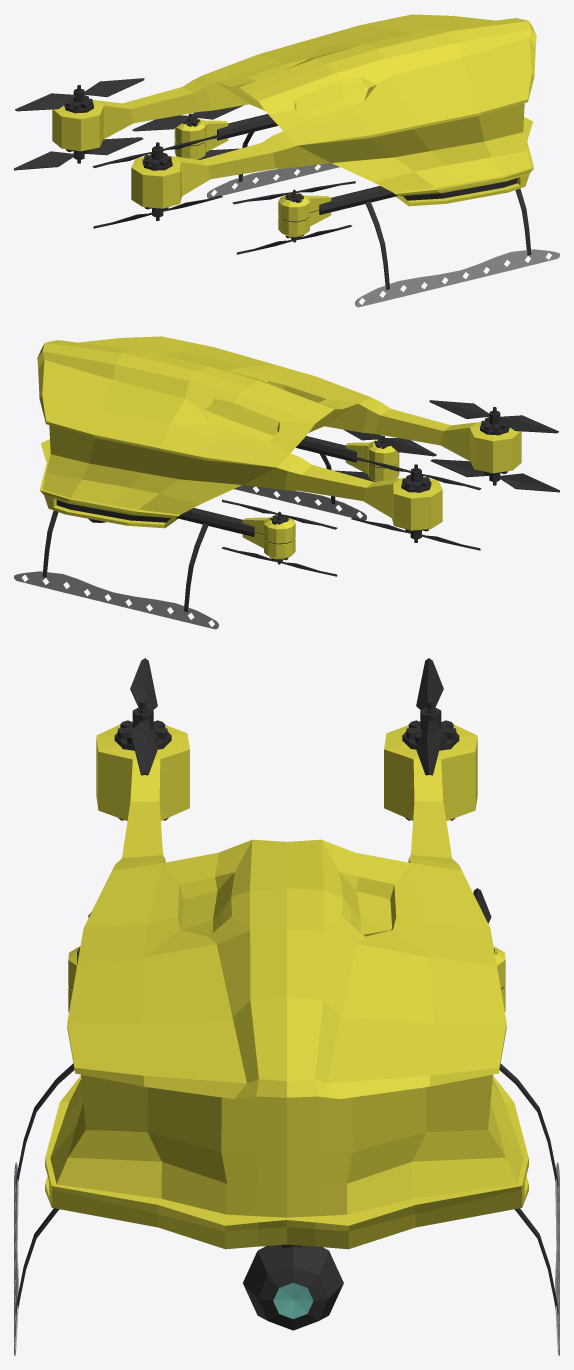
The model's file is dron_4_body_root.fbx.
3 views of the same model, one above another, from view 1: azimuth 30°, elevation 25°; view 2: azimuth 150°, elevation 25°; view 3: azimuth 270°, elevation 25° (orthographic). The views are drawn at different scales.
Parts seen in each view (by area): view 1: dron_4_body, BL_propeller, BR_propeller, FL_propeller, FR_propeller; view 2: dron_4_body, BR_propeller, BL_propeller, FR_propeller, FL_propeller; view 3: dron_4_body, Camera, BL_propeller, BR_propeller.
Boxes of the visible parts, left/top/right/bottom form: dron_4_body: left=52, top=14, right=559, bottom=307; BL_propeller: left=14, top=78, right=144, bottom=170; BR_propeller: left=92, top=134, right=222, bottom=228; FL_propeller: left=132, top=105, right=243, bottom=159; FR_propeller: left=232, top=181, right=355, bottom=254; dron_4_body: left=14, top=336, right=521, bottom=629; BR_propeller: left=429, top=400, right=559, bottom=492; BL_propeller: left=351, top=456, right=481, bottom=550; FR_propeller: left=334, top=429, right=436, bottom=481; FL_propeller: left=221, top=499, right=337, bottom=576; dron_4_body: left=14, top=724, right=559, bottom=1355; Camera: left=243, top=1244, right=343, bottom=1330; BL_propeller: left=405, top=658, right=456, bottom=820; BR_propeller: left=117, top=658, right=168, bottom=820.
Size of the model in its own units: 693 by 251 by 373.
Materials: 1 (1 with a texture image).
